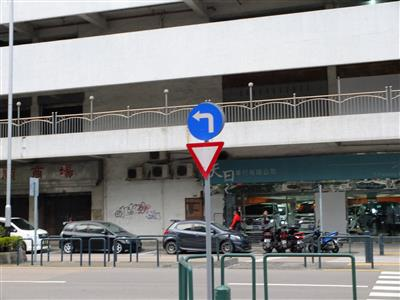leftTurnOnly: (184, 98, 226, 140)
yield: (184, 139, 225, 179)
